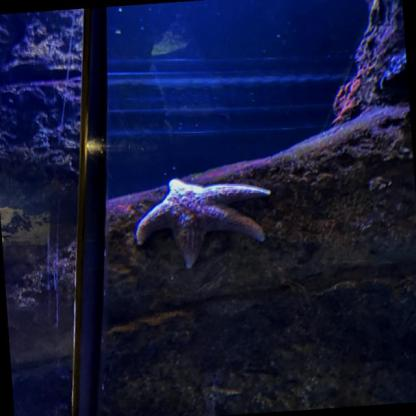starfish: (134, 169, 280, 264)
